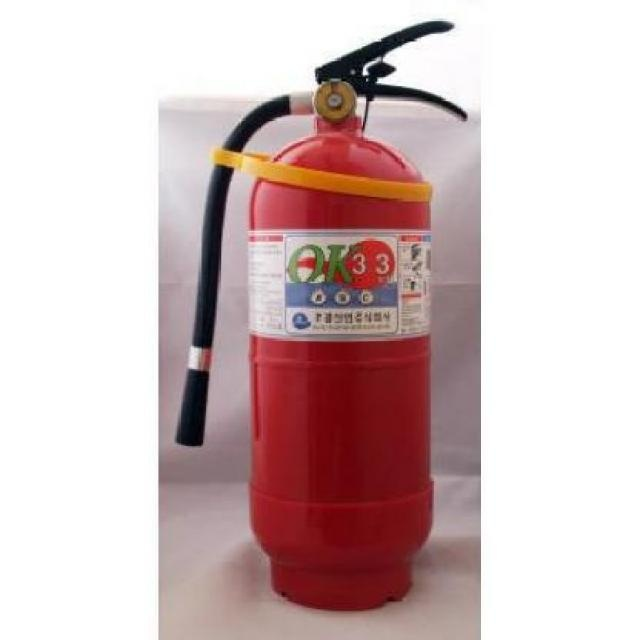fire extinguisher: (175, 18, 467, 611)
